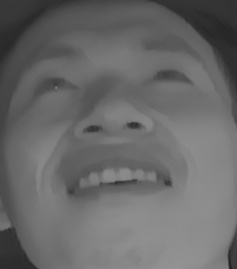eye: (145, 60, 193, 97), (31, 71, 82, 102)
mouth: (60, 153, 179, 210)
